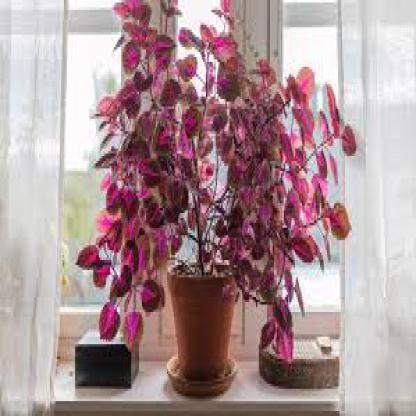Bunga Coleus: (100, 19, 332, 274)
